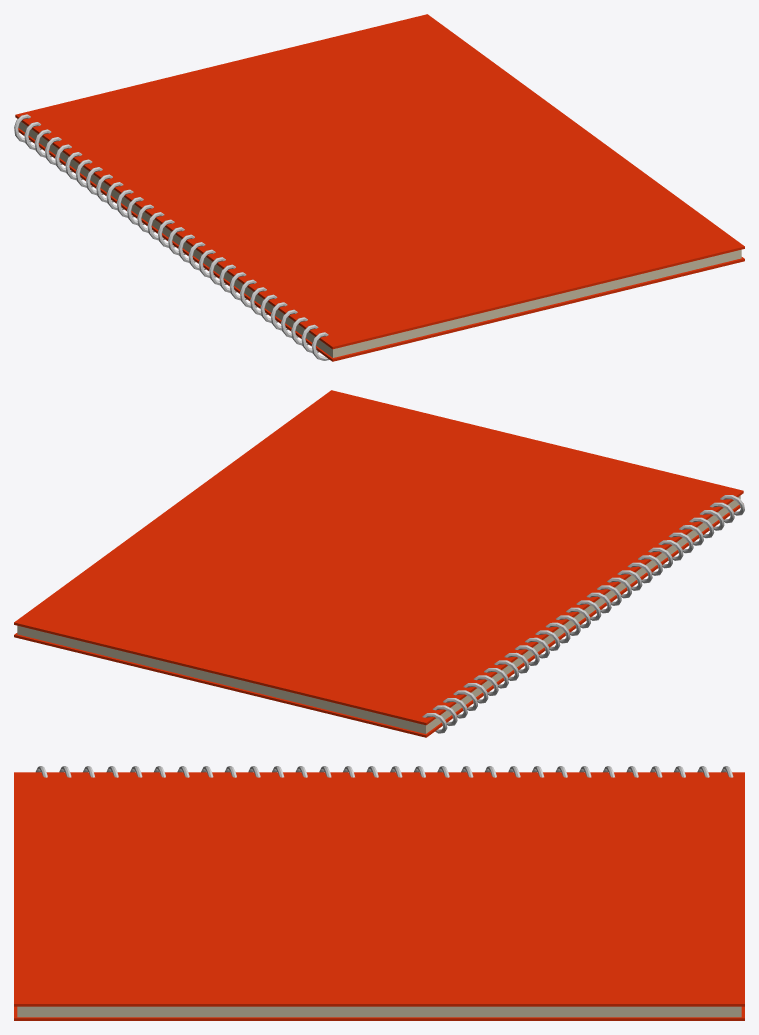
Rendered from Notebook.fbx.
The picture shows the model from 3 angles, top to bottom: view 1: azimuth 30°, elevation 25°; view 2: azimuth 150°, elevation 25°; view 3: azimuth 270°, elevation 25°; orthographic projection. The views are drawn at different scales.
Visible parts, largest first — view 1: pCube2, pCube1, pHelix1, pCube3; view 2: pCube2, pCube1, pHelix1, pCube3; view 3: pCube2, pCube1, pCube3, pHelix1.
Part boxes in pixels (bbox=[...]): pCube2: bbox=[15, 14, 744, 349]; pCube1: bbox=[18, 121, 741, 357]; pHelix1: bbox=[14, 114, 329, 360]; pCube3: bbox=[18, 128, 744, 361]; pCube2: bbox=[14, 390, 743, 725]; pCube1: bbox=[17, 495, 740, 733]; pHelix1: bbox=[422, 495, 744, 733]; pCube3: bbox=[14, 505, 740, 737]; pCube2: bbox=[14, 772, 744, 1006]; pCube1: bbox=[17, 1006, 741, 1017]; pCube3: bbox=[14, 1006, 744, 1020]; pHelix1: bbox=[35, 766, 733, 777].
Bounding box in the file's own units: 21.72 × 1.19 × 28.25.
